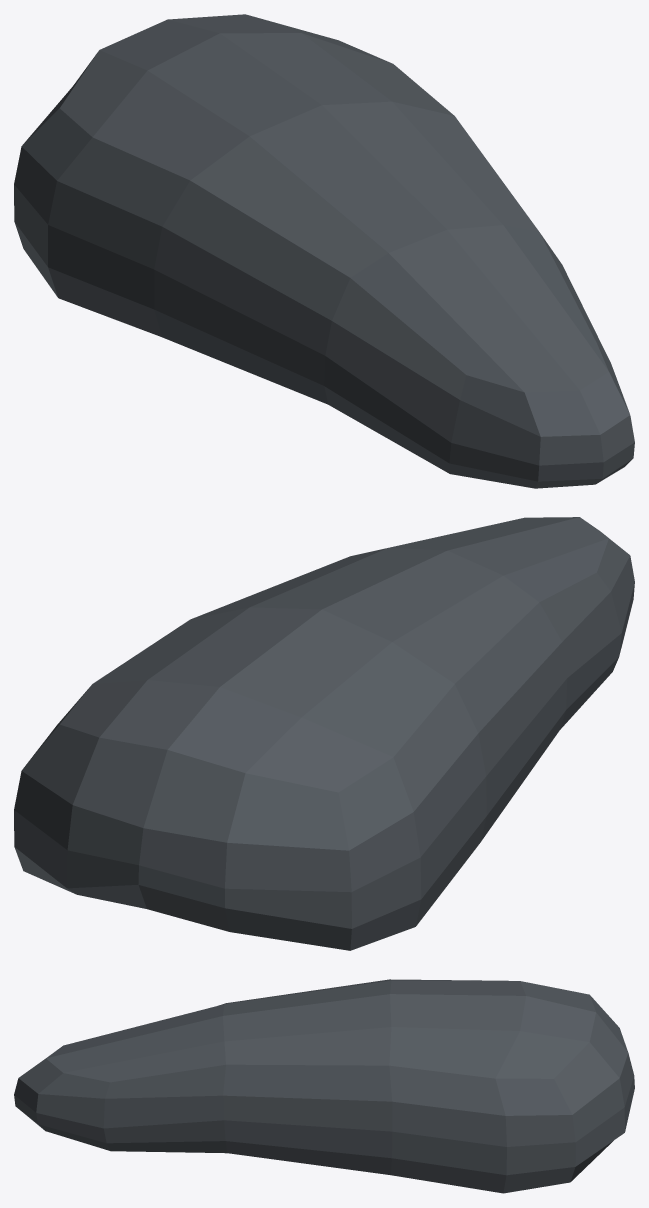
File: Fighter_09_Detail_1.fbx
3 views of the same model, one above another, from view 1: azimuth 30°, elevation 25°; view 2: azimuth 150°, elevation 25°; view 3: azimuth 270°, elevation 25° (orthographic). The views are drawn at different scales.
Visible parts, largest first — view 1: Fighter_09_Detail_1; view 2: Fighter_09_Detail_1; view 3: Fighter_09_Detail_1.
Part boxes in pixels (left/top/right/bottom): Fighter_09_Detail_1: left=14, top=14, right=634, bottom=488; Fighter_09_Detail_1: left=14, top=517, right=634, bottom=950; Fighter_09_Detail_1: left=14, top=979, right=634, bottom=1193.
Size of the model in its own units: 118 by 63.97 by 255.
Materials: 1 (1 with a texture image).
